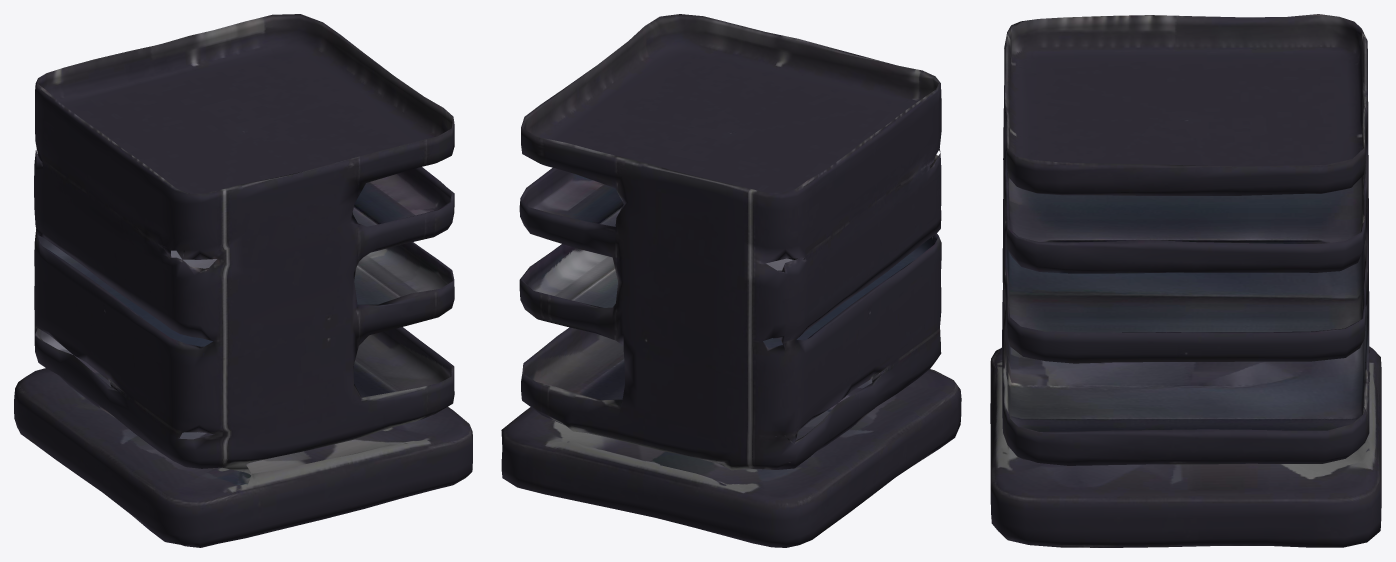
The model's file is snacks_shelve_3.fbx.
3 views of the same model, side by side, from view 1: azimuth 30°, elevation 25°; view 2: azimuth 150°, elevation 25°; view 3: azimuth 270°, elevation 25° (orthographic). The views are drawn at different scales.
Visible parts, largest first — view 1: tripo_node_91d4f3bc; view 2: tripo_node_91d4f3bc; view 3: tripo_node_91d4f3bc.
Part boxes in pixels (<box>): tripo_node_91d4f3bc: <box>14,14,472,547</box>; tripo_node_91d4f3bc: <box>501,14,961,547</box>; tripo_node_91d4f3bc: <box>990,14,1381,547</box>.
Size of the model in its own units: 0.9157 by 0.9985 by 0.9249.
1 material, 1 textured.
